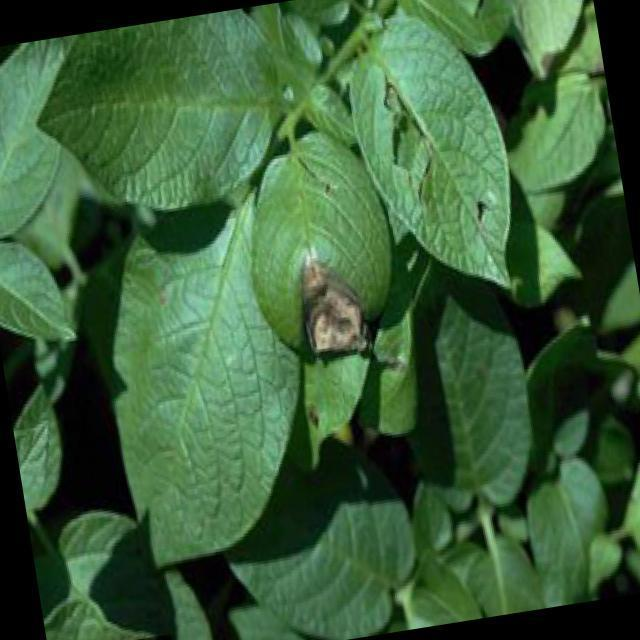Healthy Leaf: (82, 181, 325, 564), (21, 5, 294, 218), (0, 36, 94, 228), (0, 229, 77, 352), (8, 384, 76, 514)
